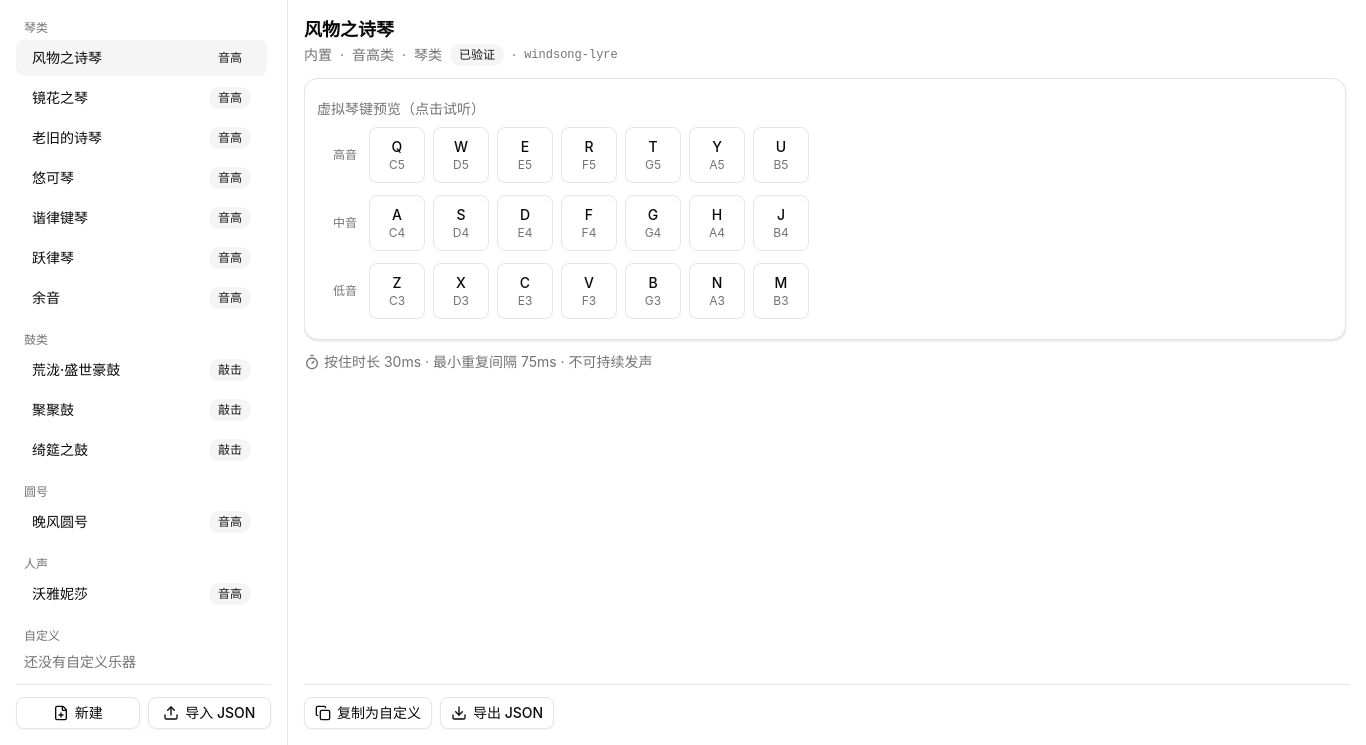
it: InstrumentsPage 列表与详情 › 新建乐器进入编辑器且 ID 为 custom-时间戳
The width and height of the screenshot is (1366, 745).
Click the button "新建": click(78, 713) [16,697,140,729]
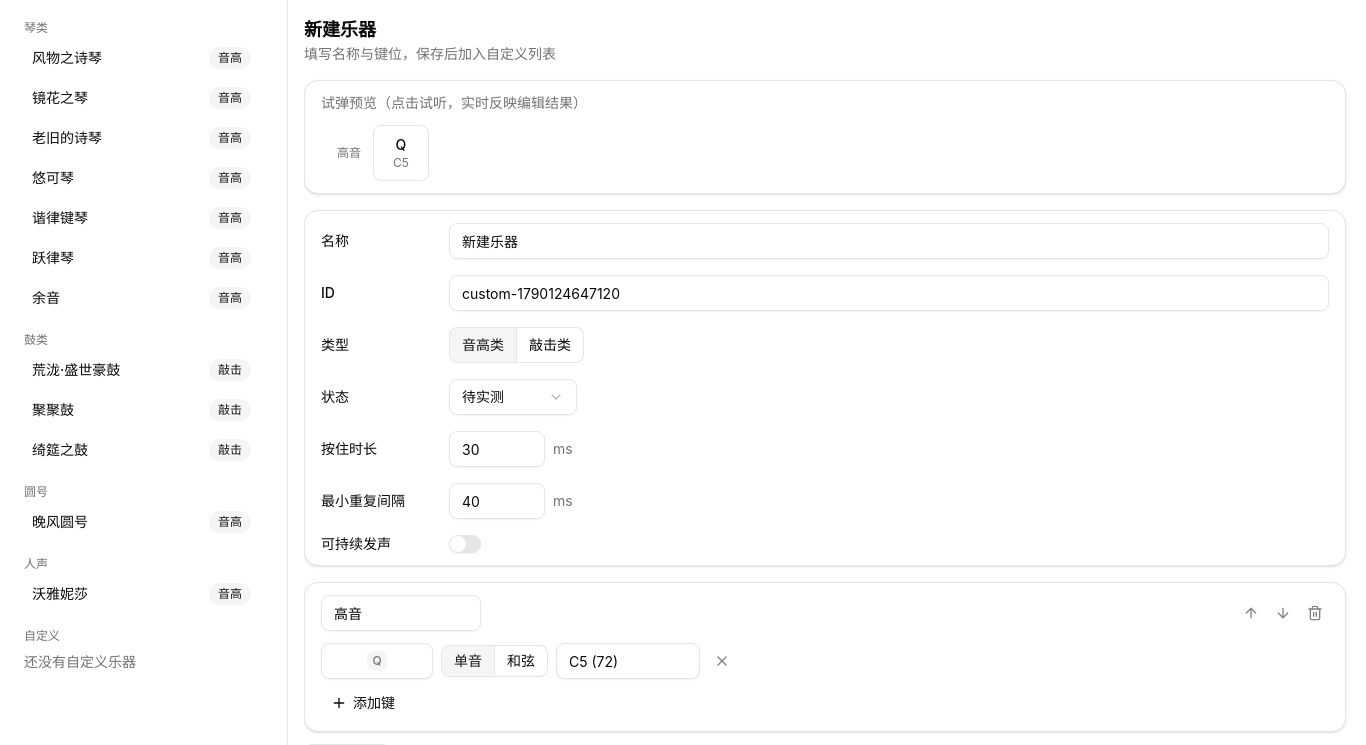
Now the heading "新建乐器" is shown, box [304,19,376,40]
Now the field labelled "名称" holds "新建乐器", box [449,223,1329,259]
Now the field labelled "ID" is enabled, box [449,275,1329,311]
